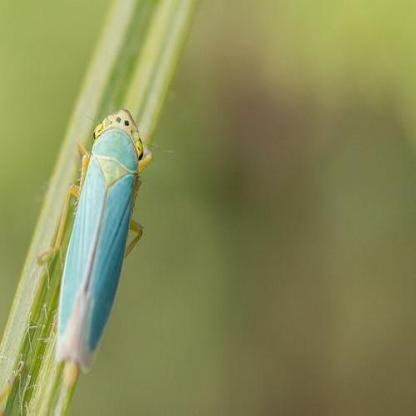Green-Leafhopper: (32, 100, 157, 392)
